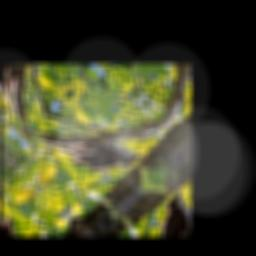Cuckoo: (48, 105, 146, 195)
